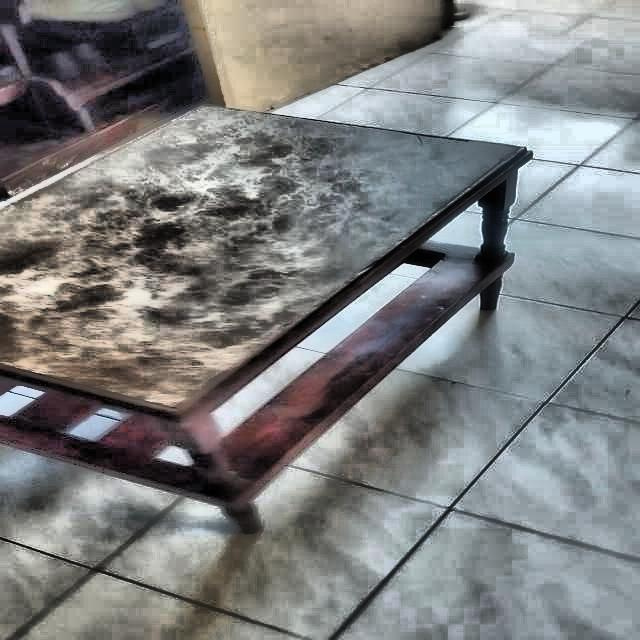mesa: (0, 97, 534, 547)
